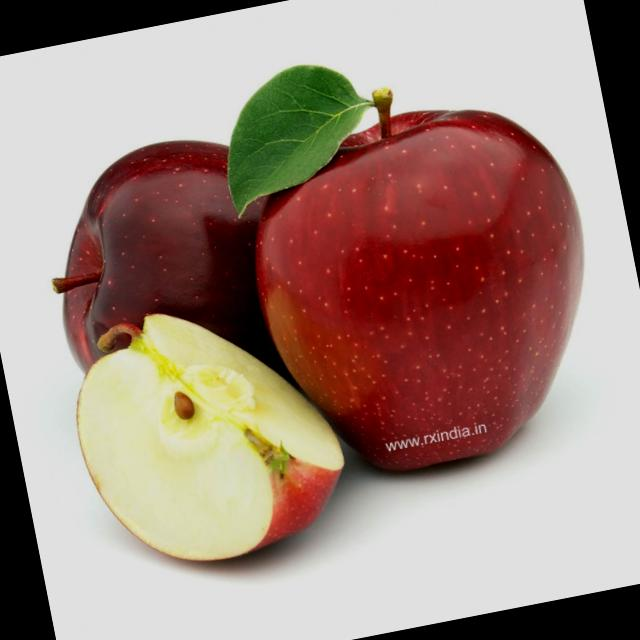apple: (217, 82, 638, 512), (14, 105, 392, 471)
